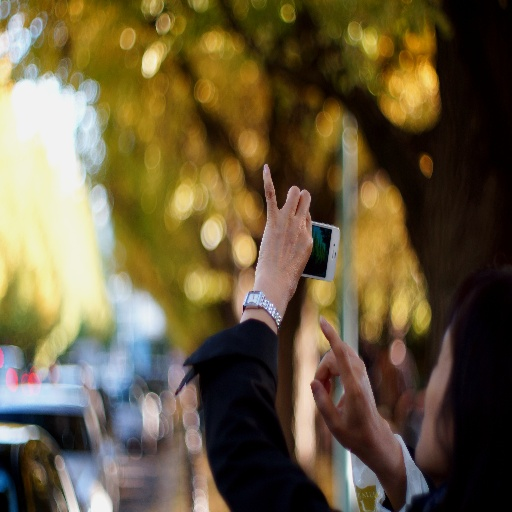hand: (308, 314, 386, 458), (254, 179, 322, 333)
